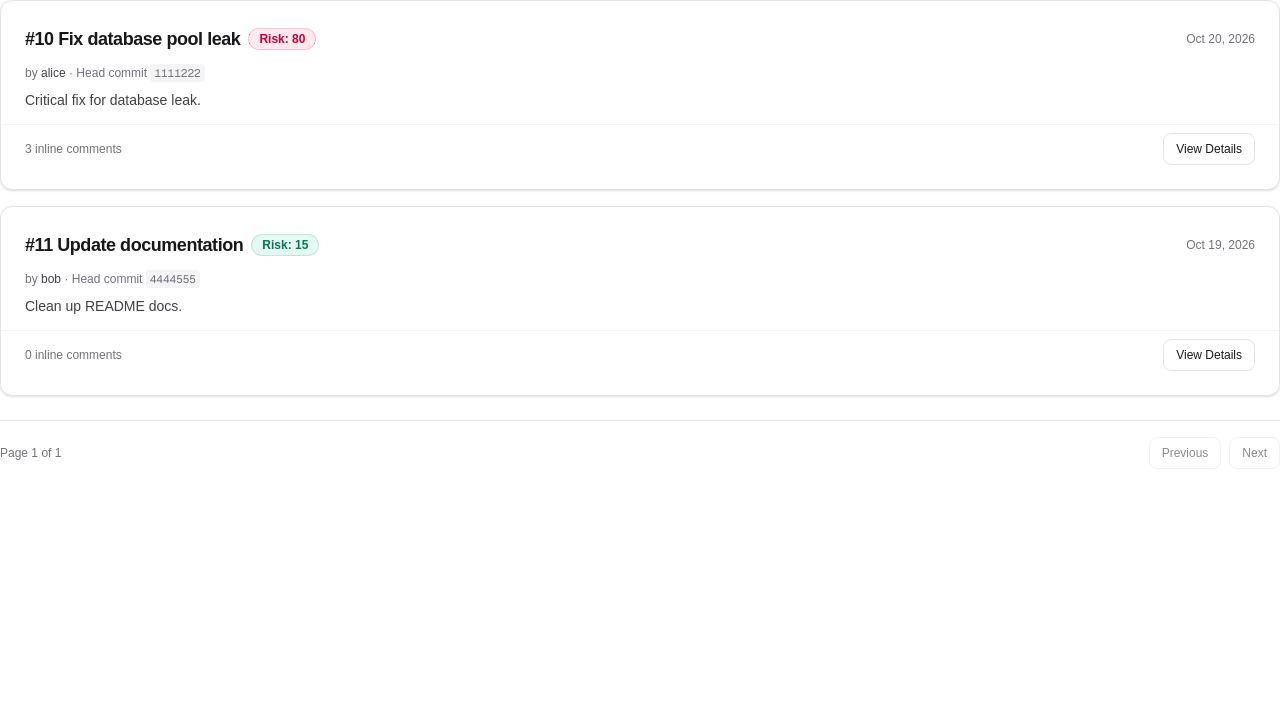
Test: ReviewList › opens ReviewDetailModal when clicking on View Details
Click the button "View Details" below "Oct 20, 2026" at (1209, 149), box 1163,133 -> 1255,165
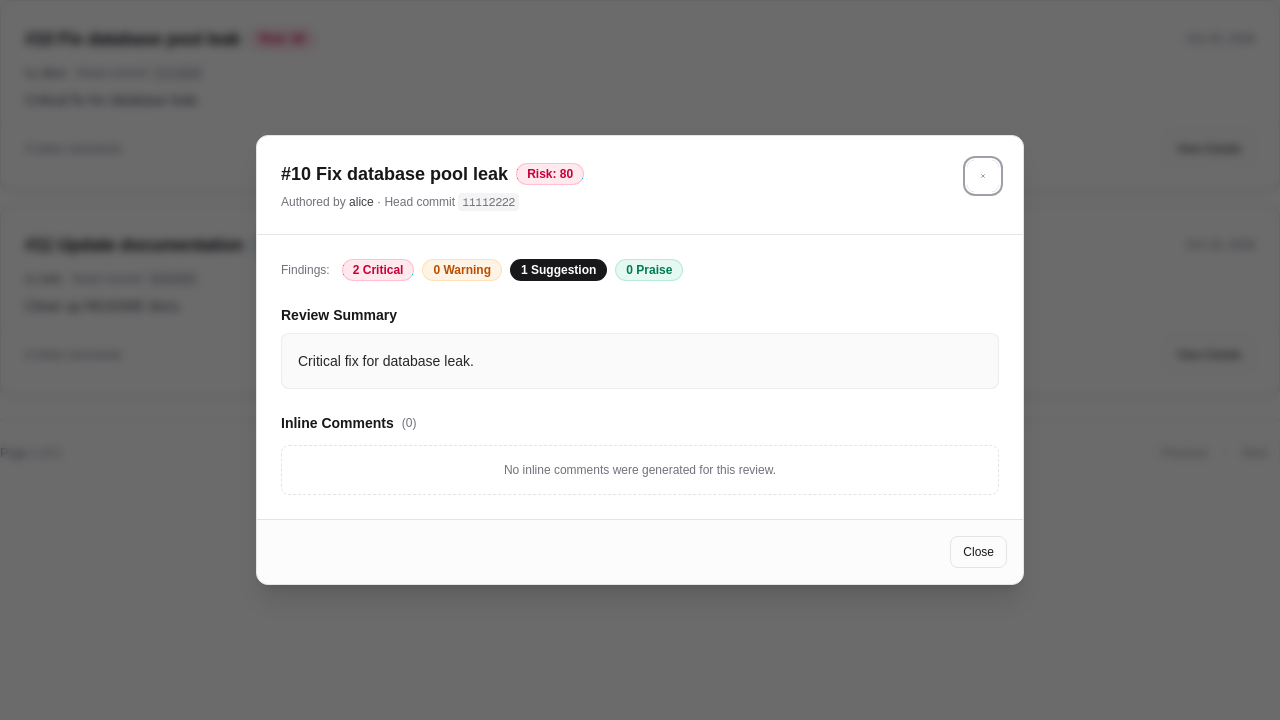
Check: the dialog is shown, box 256,135 -> 1024,585
Check: the dialog shows "Critical fix for database leak.", box 298,353 -> 474,369
